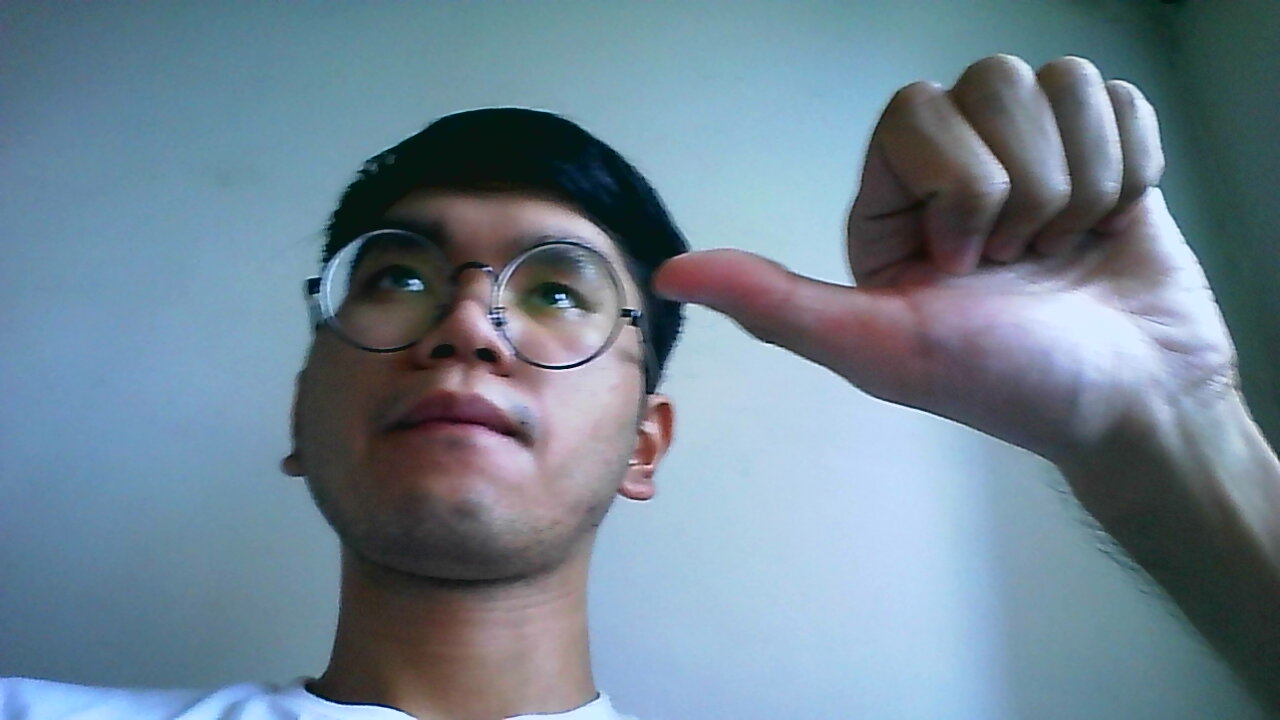thumbs: (650, 52, 1241, 467)
